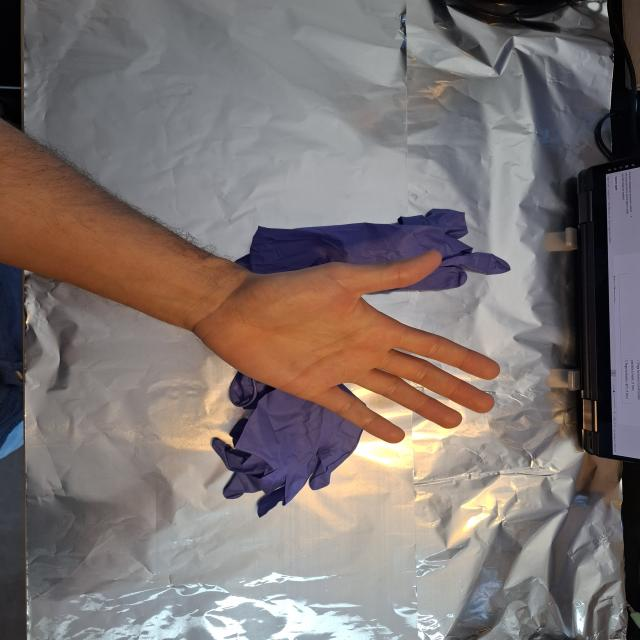glove_off: (192, 246, 503, 445)
